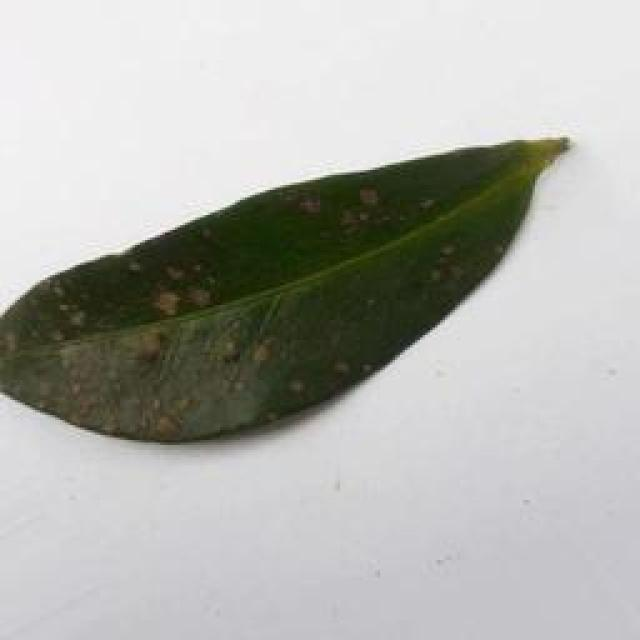Algal Leaf Spot: (7, 135, 576, 445)
